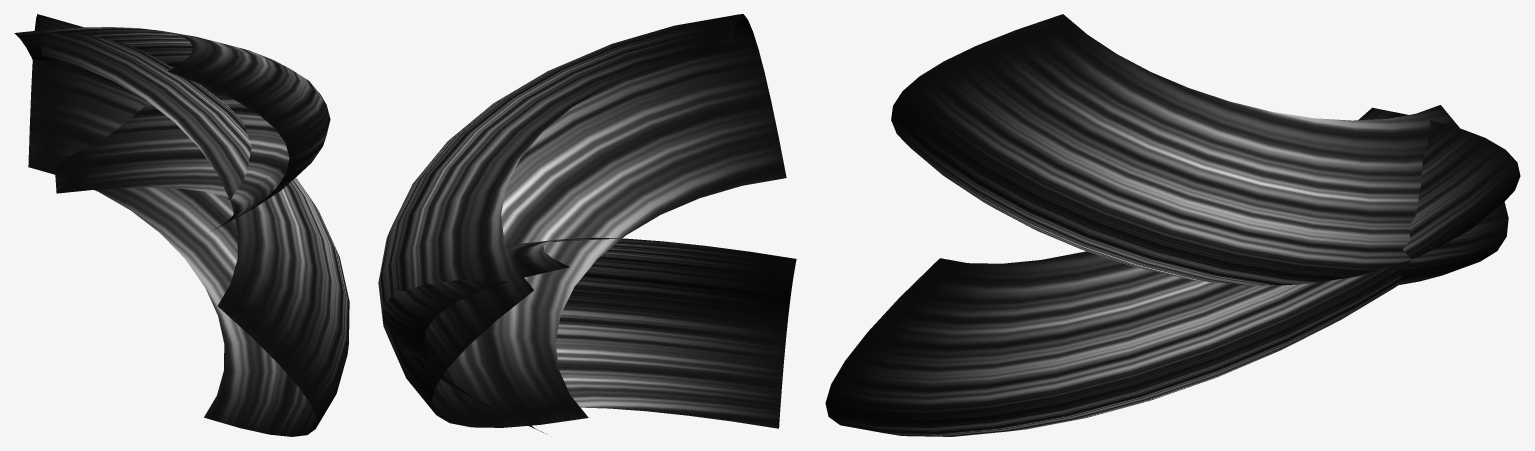
Rendered from M_LHGQ_01.FBX.
3 renders of one model, left to right at view 1: azimuth 30°, elevation 25°; view 2: azimuth 150°, elevation 25°; view 3: azimuth 270°, elevation 25°, orthographic. The views are drawn at different scales.
Parts seen in each view (by area): view 1: Plane001; view 2: Plane001; view 3: Plane001.
Part boxes in pixels (left/top/right/bottom): Plane001: left=14, top=14, right=349, bottom=436; Plane001: left=378, top=14, right=796, bottom=434; Plane001: left=825, top=14, right=1520, bottom=436.
Bounding box in the file's own units: 35.61 × 60.9 × 97.05.
